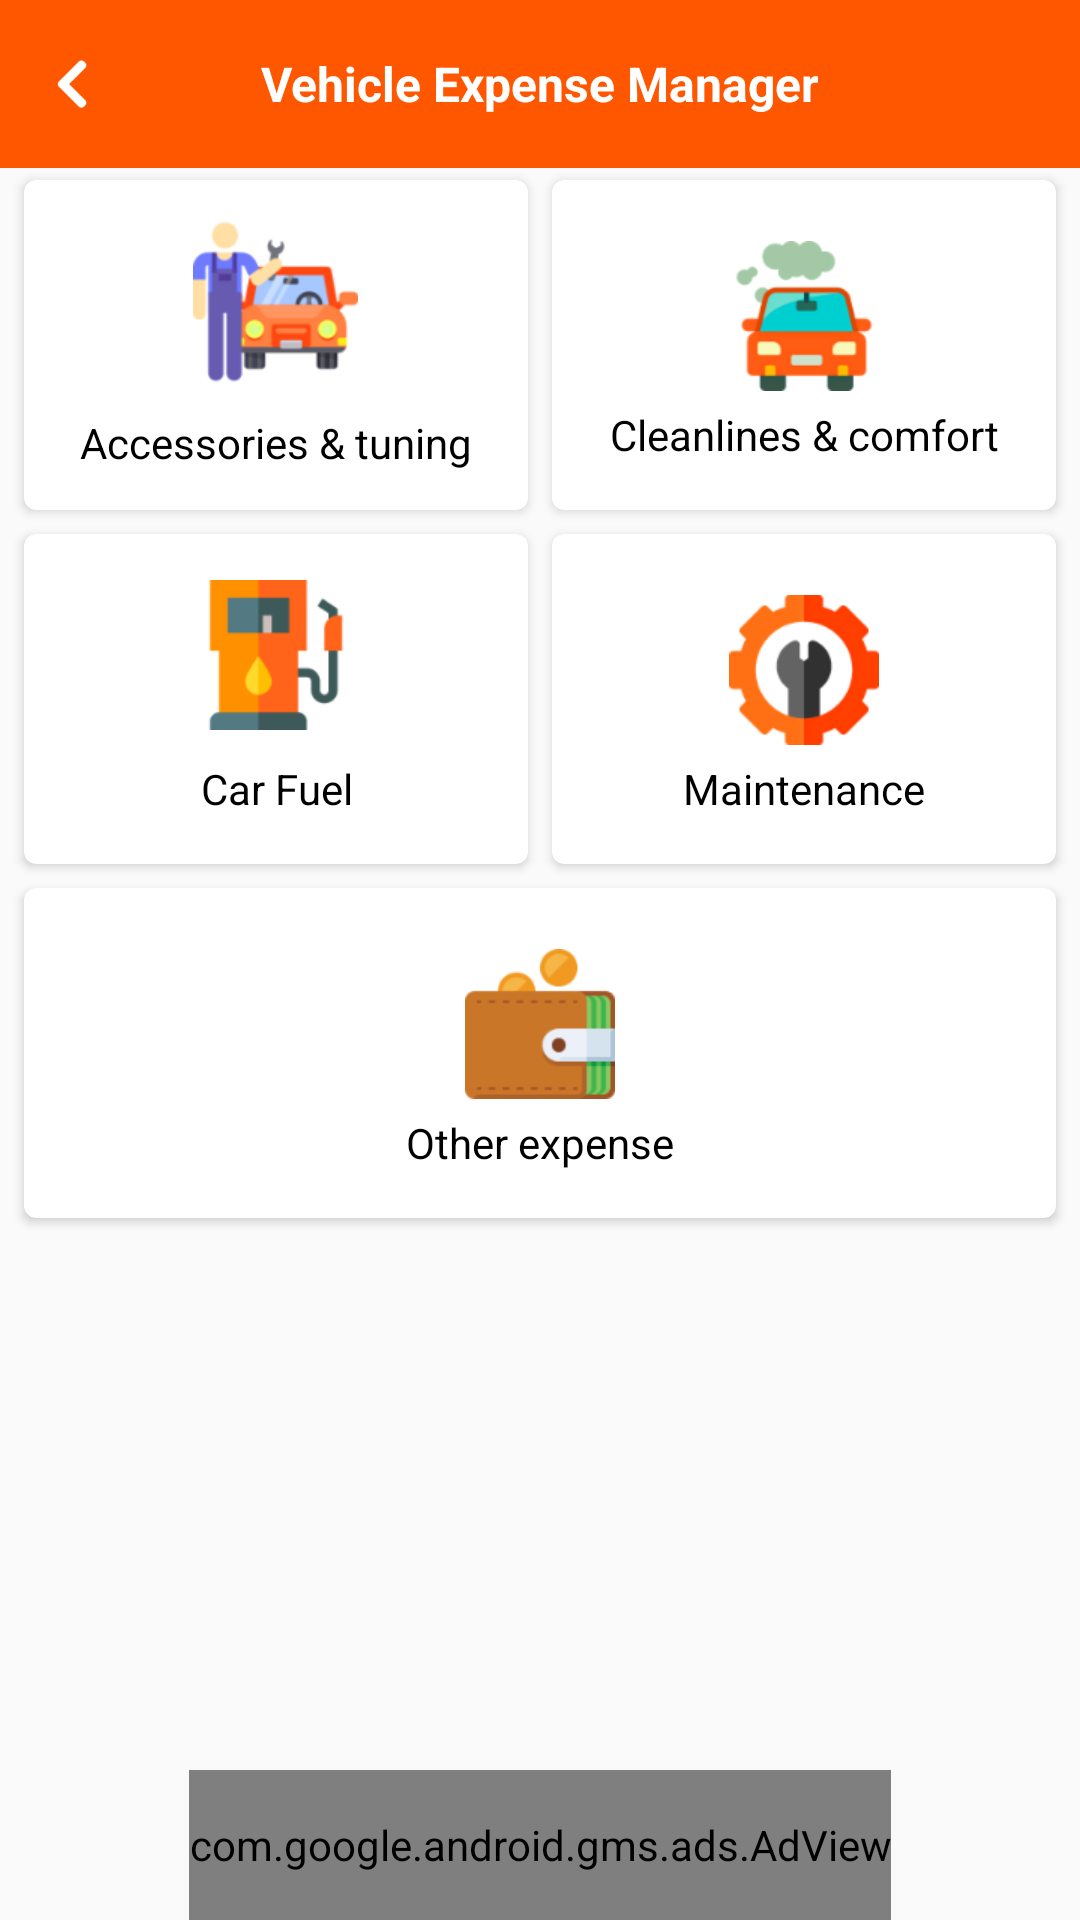

Icon click points for this 1080*1920 phone screenshot, format [x,y]:
back: [72,84]
